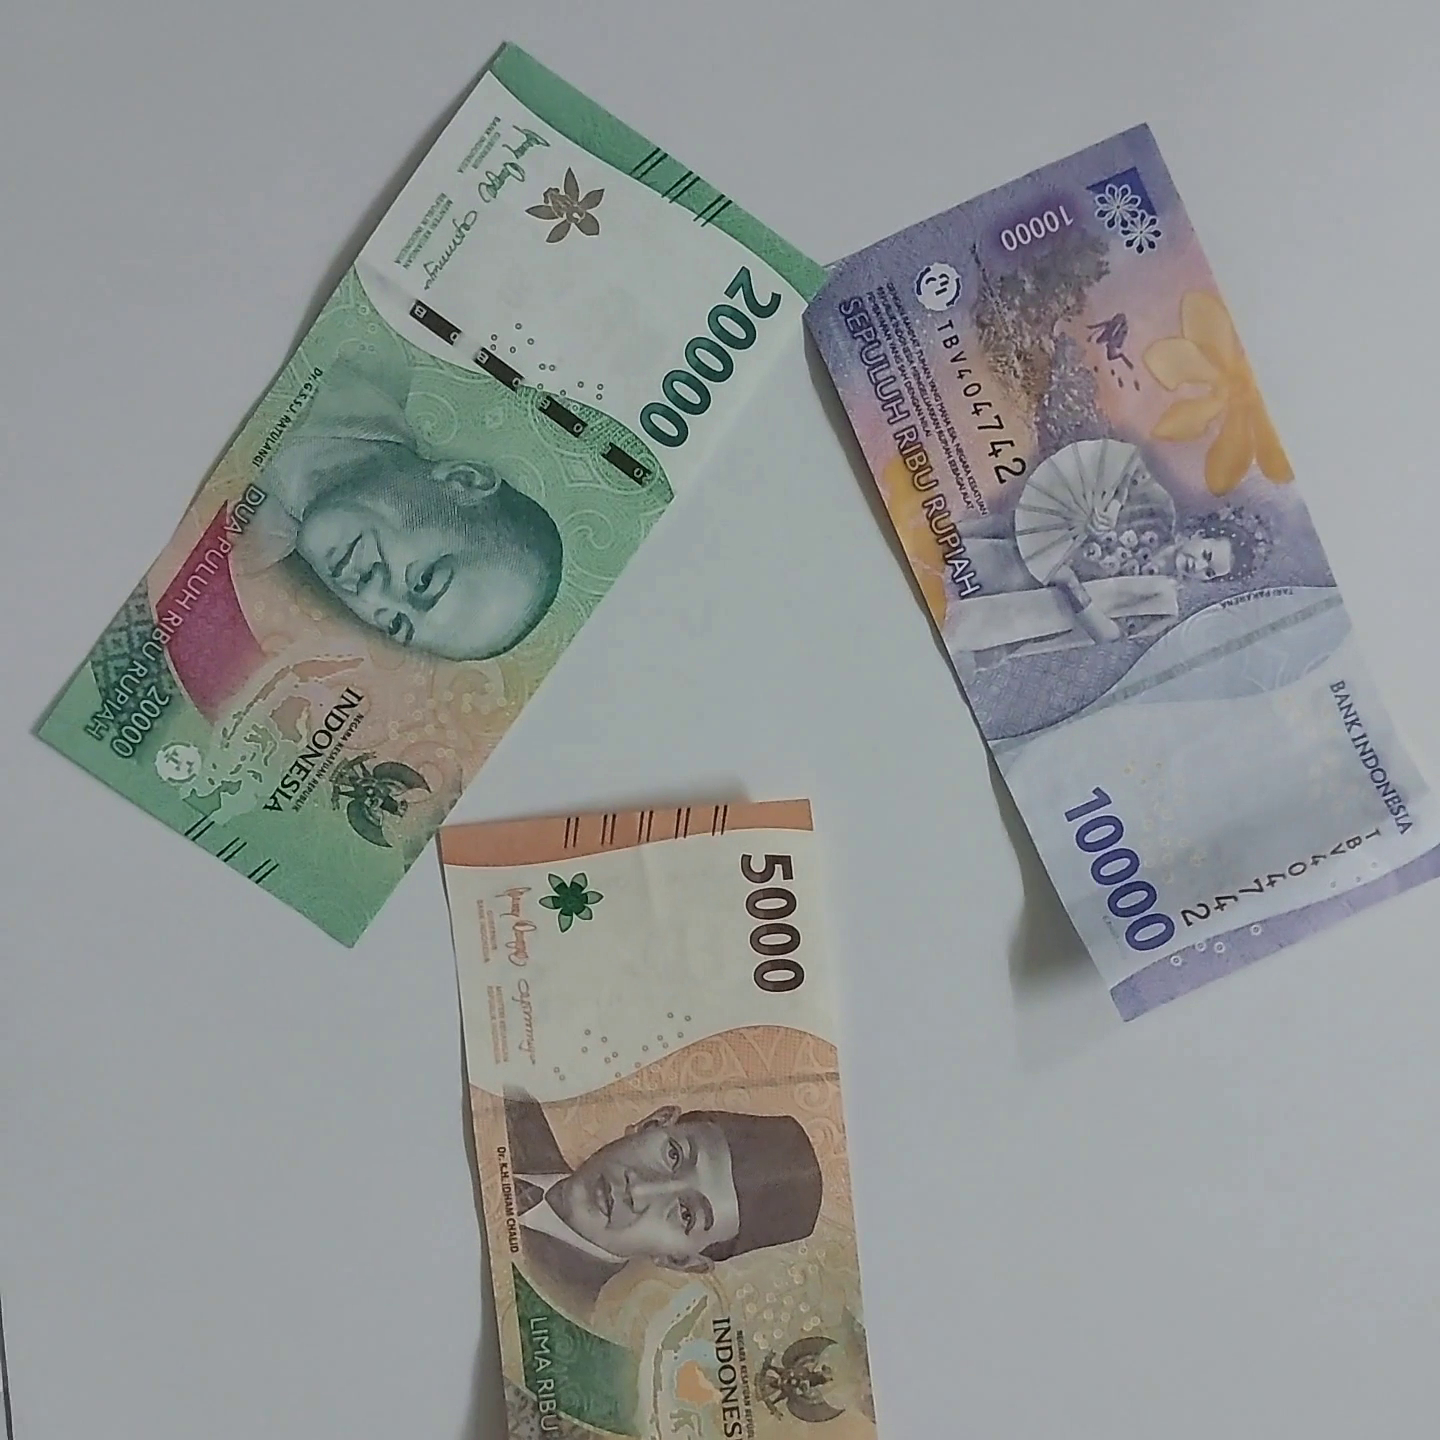10k: (778, 90, 1440, 1059)
5k: (505, 28, 898, 884), (409, 793, 878, 1440)
